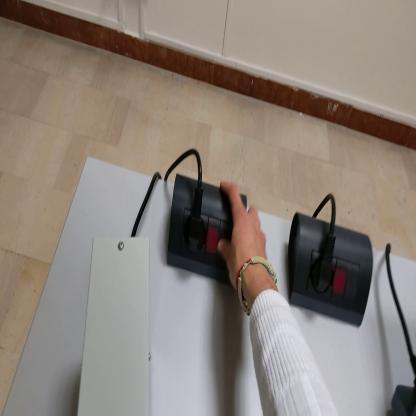hand: (216, 179, 272, 302)
oscilloscope: (390, 387, 416, 415)
power supply: (72, 238, 151, 416)
socket: (288, 208, 376, 332), (167, 178, 248, 286)
